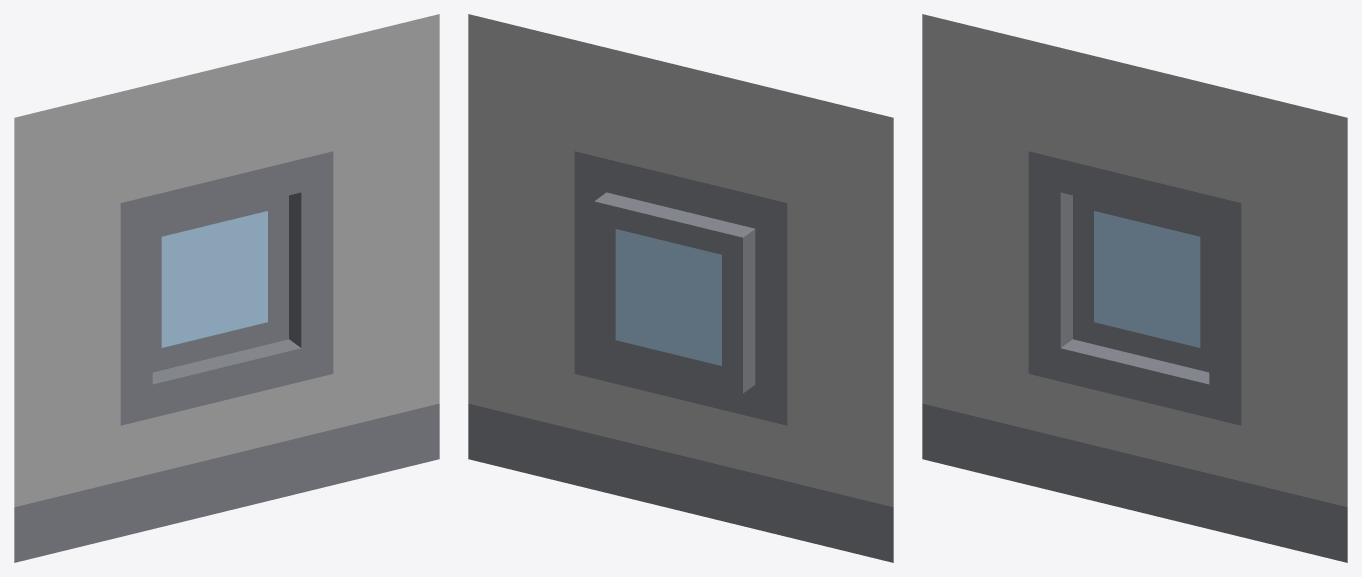
File: wall_windowA.fbx
3 views of the same model, side by side, from view 1: azimuth 30°, elevation 25°; view 2: azimuth 150°, elevation 25°; view 3: azimuth 330°, elevation 25° (orthographic).
Parts seen in each view (by area): view 1: wall_windowA; view 2: wall_windowA; view 3: wall_windowA.
Part boxes in pixels (x1=…): wall_windowA: x1=14, y1=14, x2=439, y2=562; wall_windowA: x1=468, y1=14, x2=893, y2=562; wall_windowA: x1=922, y1=14, x2=1347, y2=562.
Size of the model in its own units: 4 by 4 by 0.2.
